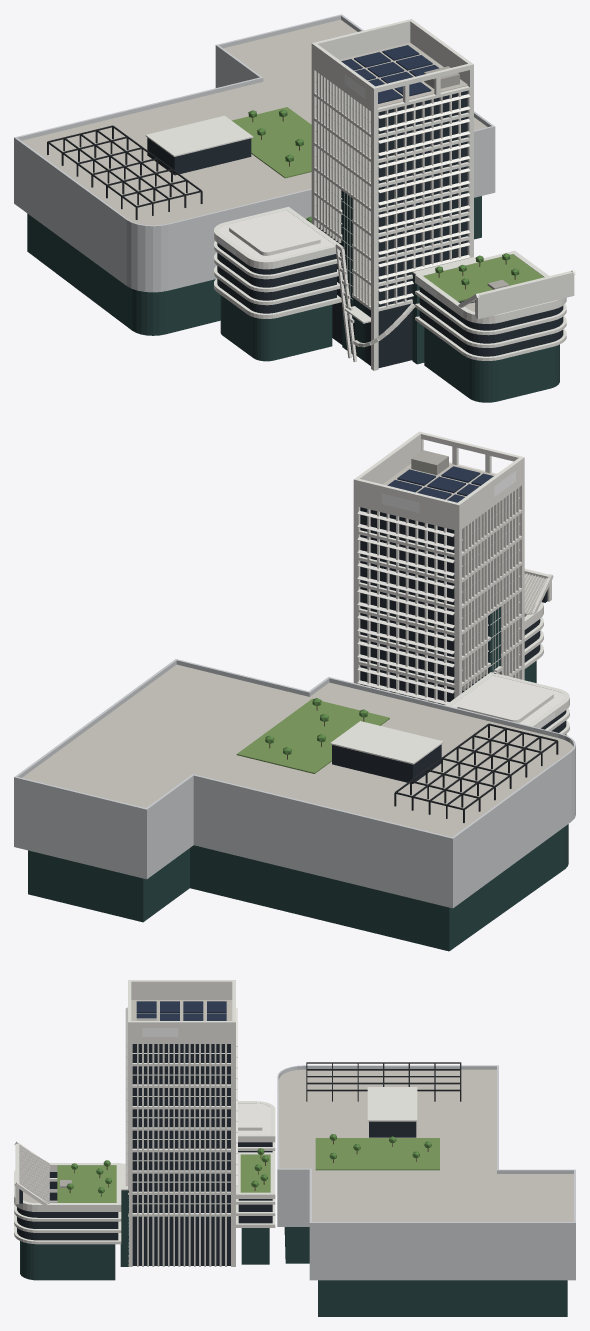
Rendered from gucheong.glb.
The picture shows the model from 3 angles, top to bottom: view 1: azimuth 30°, elevation 25°; view 2: azimuth 150°, elevation 25°; view 3: azimuth 270°, elevation 25°; orthographic projection. The views are drawn at different scales.
Parts seen in each view (by area): view 1: frame, roof@p, lattice@p, glass, curtain@p, frame@h, curtain@h, frame@c, curtain@c, glass@c, green@p, glass@h (+8 smaller); view 2: lattice@p, roof@p, frame, curtain@p, glass, green@p, pergola@p, membrane@c, frame@p, glass@p, solar, frame@h (+4 smaller); view 3: roof@p, frame, lattice@p, glass, curtain@p, frame@h, curtain@h, green@p, glass@h, green@h, pergola@p, frame@p (+7 smaller).
Boxes of the visible parts, <box> form: frame: <box>311,19,473,370</box>; roof@p: <box>21,19,487,225</box>; lattice@p: <box>14,14,495,292</box>; glass: <box>318,90,467,367</box>; curtain@p: <box>27,196,481,335</box>; frame@h: <box>353,250,575,360</box>; curtain@h: <box>412,273,559,402</box>; frame@c: <box>214,206,357,361</box>; curtain@c: <box>220,295,332,361</box>; glass@c: <box>217,243,336,313</box>; green@p: <box>232,107,311,178</box>; glass@h: <box>419,286,563,356</box>; lattice@p: <box>14,659,575,908</box>; roof@p: <box>22,664,573,837</box>; frame: <box>353,431,524,705</box>; curtain@p: <box>28,824,568,951</box>; glass: <box>360,507,489,704</box>; green@p: <box>236,699,389,773</box>; pergola@p: <box>394,723,558,822</box>; membrane@c: <box>451,675,563,725</box>; frame@p: <box>330,721,443,764</box>; glass@p: <box>332,744,441,783</box>; solar: <box>387,466,493,502</box>; frame@h: <box>524,568,553,668</box>; roof@p: <box>278,1069,573,1221</box>; frame: <box>125,980,275,1266</box>; lattice@p: <box>277,1065,575,1280</box>; glass: <box>132,1044,272,1265</box>; curtain@p: <box>284,1227,567,1316</box>; frame@h: <box>14,1141,128,1244</box>; curtain@h: <box>20,1190,128,1280</box>; green@p: <box>315,1138,439,1170</box>; glass@h: <box>17,1172,118,1240</box>; green@h: <box>57,1165,116,1202</box>; pergola@p: <box>306,1062,461,1101</box>; frame@p: <box>367,1087,417,1121</box>.
Size of the model in its own units: 126 by 91.4 by 190.
